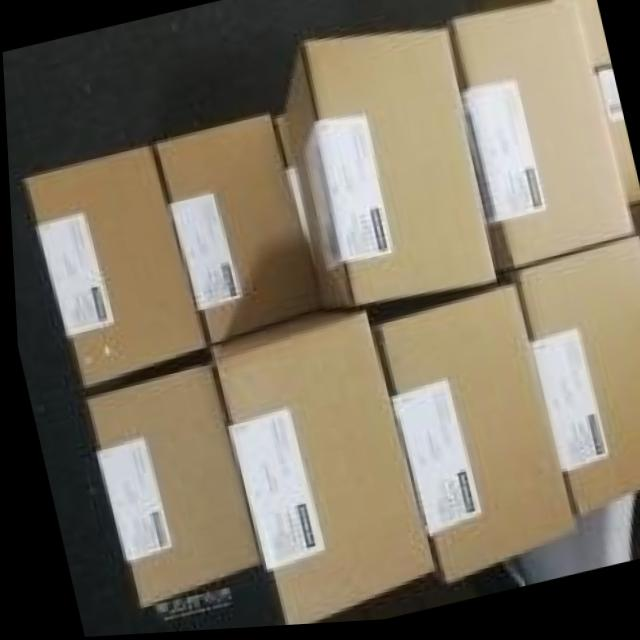box: (205, 312, 431, 628), (368, 292, 572, 589), (282, 33, 493, 310), (446, 0, 632, 278), (22, 147, 205, 389), (82, 366, 257, 609), (498, 243, 640, 523), (151, 117, 319, 348)
